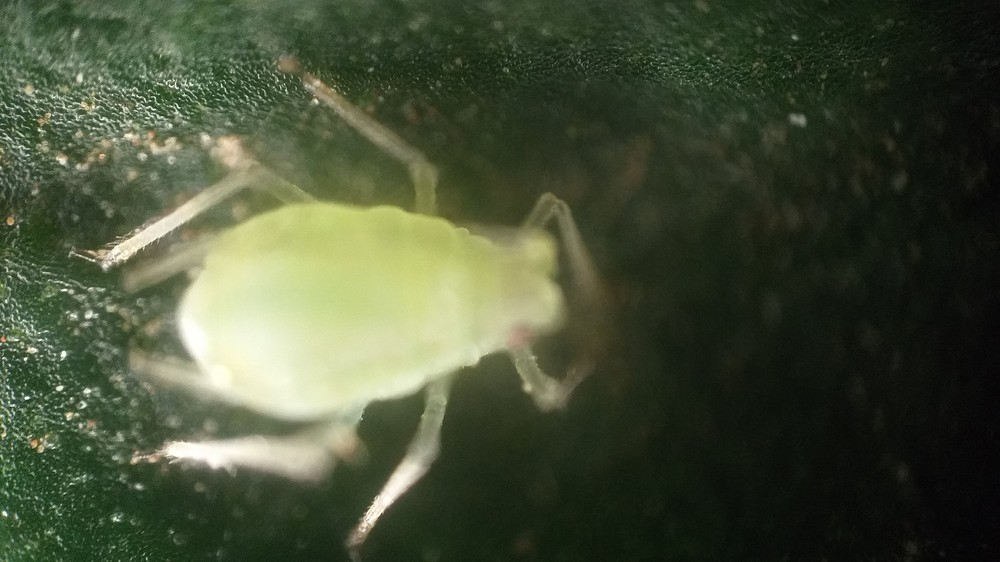Pulgon: (83, 76, 643, 548)
